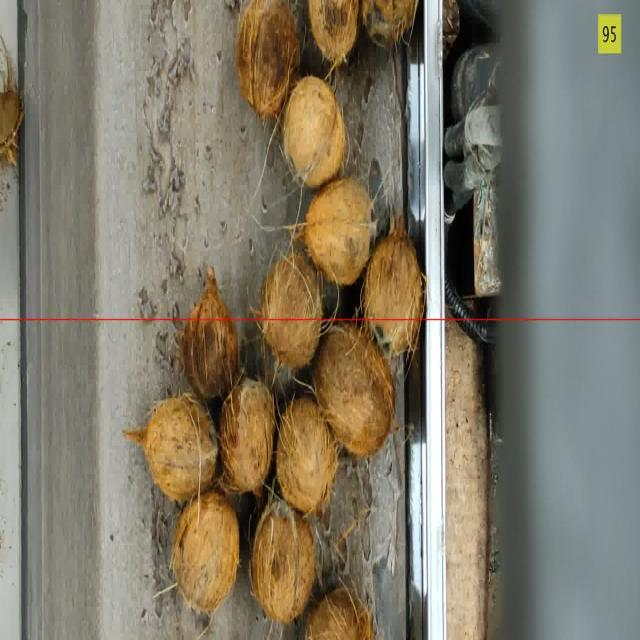Coconut-Conveyor-Belt: (319, 316, 394, 453), (131, 398, 217, 504), (172, 493, 243, 609), (276, 393, 335, 511), (261, 258, 324, 368), (251, 508, 313, 618), (364, 236, 420, 356), (236, 0, 293, 113), (185, 284, 238, 396), (310, 180, 375, 271), (225, 378, 275, 495), (290, 78, 344, 184), (303, 591, 369, 640), (309, 2, 356, 63), (363, 0, 412, 49)
